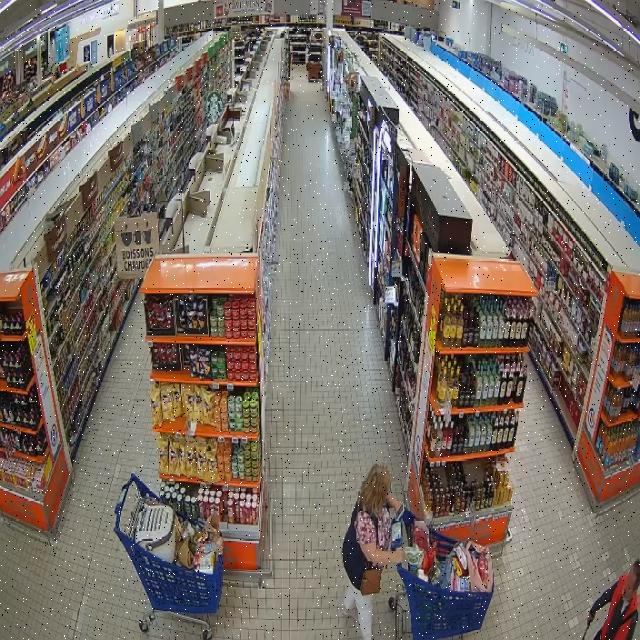bags: (360, 568, 382, 596)
hands: (387, 494, 401, 511), (392, 547, 404, 563), (588, 613, 593, 625)
person: (342, 464, 403, 639), (588, 561, 639, 639)
